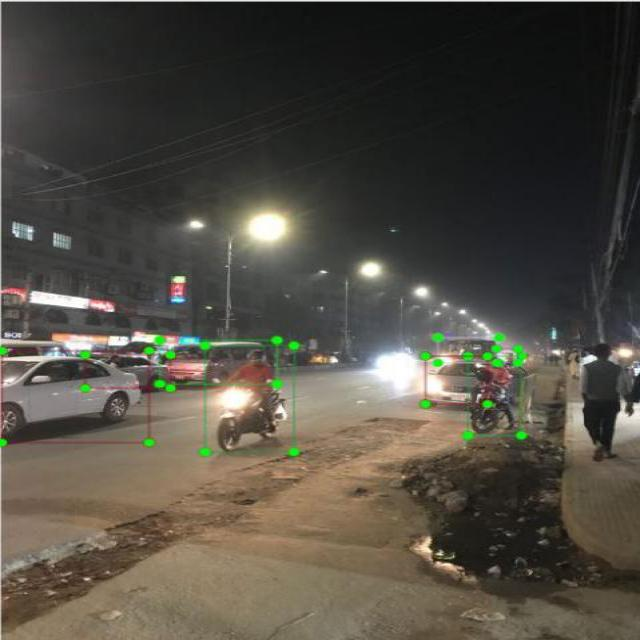bike: (204, 345, 292, 451), (467, 356, 519, 435)
vehicle: (1, 350, 148, 442), (159, 340, 275, 383), (424, 356, 485, 403), (85, 355, 169, 388), (437, 337, 497, 362), (495, 349, 515, 362)
